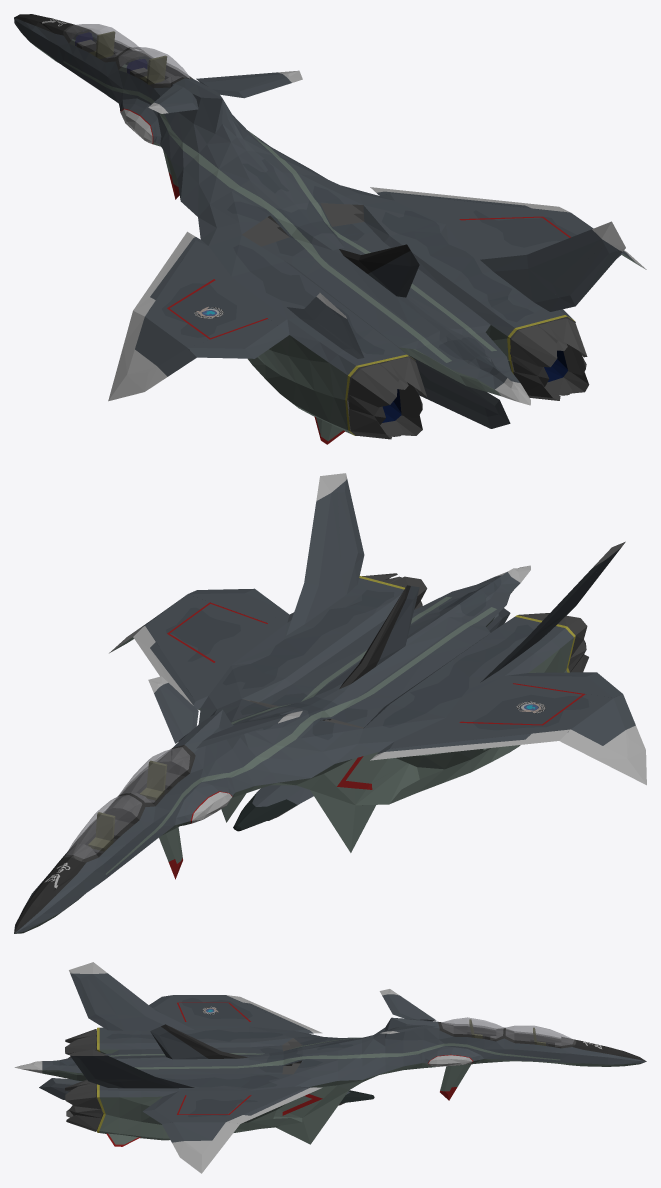
Rendered from FRR31NG.obj.
3 renders of one model, top to bottom at view 1: azimuth 30°, elevation 25°; view 2: azimuth 150°, elevation 25°; view 3: azimuth 270°, elevation 25°, orthographic. The views are drawn at different scales.
Parts seen in each view (by area): view 1: ShapeIndexedFaceSet_ShapeIndexedFaceSet.001, ShapeIndexedFaceSet.001_ShapeIndexedFaceSet.002, ShapeIndexedFaceSet.003_ShapeIndexedFaceSet.004, ShapeIndexedFaceSet.028_ShapeIndexedFaceSet.029, ShapeIndexedFaceSet.005_ShapeIndexedFaceSet.006, ShapeIndexedFaceSet.024_ShapeIndexedFaceSet.025, ShapeIndexedFaceSet.084_ShapeIndexedFaceSet.085, ShapeIndexedFaceSet.031_ShapeIndexedFaceSet.032, ShapeIndexedFaceSet.068_ShapeIndexedFaceSet.069, ShapeIndexedFaceSet.097_ShapeIndexedFaceSet.098, ShapeIndexedFaceSet.002_ShapeIndexedFaceSet.003, ShapeIndexedFaceSet.039_ShapeIndexedFaceSet.040 (+20 smaller); view 2: ShapeIndexedFaceSet_ShapeIndexedFaceSet.001, ShapeIndexedFaceSet.003_ShapeIndexedFaceSet.004, ShapeIndexedFaceSet.001_ShapeIndexedFaceSet.002, ShapeIndexedFaceSet.028_ShapeIndexedFaceSet.029, ShapeIndexedFaceSet.005_ShapeIndexedFaceSet.006, ShapeIndexedFaceSet.002_ShapeIndexedFaceSet.003, ShapeIndexedFaceSet.058_ShapeIndexedFaceSet.059, ShapeIndexedFaceSet.066_ShapeIndexedFaceSet.067, ShapeIndexedFaceSet.068_ShapeIndexedFaceSet.069, ShapeIndexedFaceSet.084_ShapeIndexedFaceSet.085, ShapeIndexedFaceSet.026_ShapeIndexedFaceSet.027, ShapeIndexedFaceSet.024_ShapeIndexedFaceSet.025 (+12 smaller); view 3: ShapeIndexedFaceSet_ShapeIndexedFaceSet.001, ShapeIndexedFaceSet.003_ShapeIndexedFaceSet.004, ShapeIndexedFaceSet.001_ShapeIndexedFaceSet.002, ShapeIndexedFaceSet.028_ShapeIndexedFaceSet.029, ShapeIndexedFaceSet.005_ShapeIndexedFaceSet.006, ShapeIndexedFaceSet.002_ShapeIndexedFaceSet.003, ShapeIndexedFaceSet.030_ShapeIndexedFaceSet.031, ShapeIndexedFaceSet.066_ShapeIndexedFaceSet.067, ShapeIndexedFaceSet.068_ShapeIndexedFaceSet.069, ShapeIndexedFaceSet.058_ShapeIndexedFaceSet.059, ShapeIndexedFaceSet.004_ShapeIndexedFaceSet.005, ShapeIndexedFaceSet.084_ShapeIndexedFaceSet.085 (+14 smaller).
Boxes of the visible parts, x1,y1,x2,y2 form: ShapeIndexedFaceSet_ShapeIndexedFaceSet.001: (14, 17, 634, 389); ShapeIndexedFaceSet.001_ShapeIndexedFaceSet.002: (162, 159, 576, 375); ShapeIndexedFaceSet.003_ShapeIndexedFaceSet.004: (30, 39, 642, 441); ShapeIndexedFaceSet.028_ShapeIndexedFaceSet.029: (287, 229, 622, 358); ShapeIndexedFaceSet.005_ShapeIndexedFaceSet.006: (108, 109, 646, 405); ShapeIndexedFaceSet.024_ShapeIndexedFaceSet.025: (188, 319, 287, 358); ShapeIndexedFaceSet.084_ShapeIndexedFaceSet.085: (261, 223, 410, 275); ShapeIndexedFaceSet.031_ShapeIndexedFaceSet.032: (547, 243, 620, 306); ShapeIndexedFaceSet.068_ShapeIndexedFaceSet.069: (118, 47, 189, 83); ShapeIndexedFaceSet.097_ShapeIndexedFaceSet.098: (242, 203, 364, 246); ShapeIndexedFaceSet.002_ShapeIndexedFaceSet.003: (14, 14, 410, 318); ShapeIndexedFaceSet.039_ShapeIndexedFaceSet.040: (348, 363, 397, 407); ShapeIndexedFaceSet_ShapeIndexedFaceSet.001: (14, 484, 635, 933); ShapeIndexedFaceSet.003_ShapeIndexedFaceSet.004: (14, 590, 573, 933); ShapeIndexedFaceSet.001_ShapeIndexedFaceSet.002: (133, 577, 589, 739); ShapeIndexedFaceSet.028_ShapeIndexedFaceSet.029: (286, 479, 621, 682); ShapeIndexedFaceSet.005_ShapeIndexedFaceSet.006: (109, 565, 646, 823); ShapeIndexedFaceSet.002_ShapeIndexedFaceSet.003: (14, 585, 545, 933); ShapeIndexedFaceSet.058_ShapeIndexedFaceSet.059: (64, 745, 195, 861); ShapeIndexedFaceSet.066_ShapeIndexedFaceSet.067: (66, 795, 141, 858); ShapeIndexedFaceSet.068_ShapeIndexedFaceSet.069: (119, 747, 189, 802); ShapeIndexedFaceSet.084_ShapeIndexedFaceSet.085: (266, 668, 410, 717); ShapeIndexedFaceSet.026_ShapeIndexedFaceSet.027: (188, 588, 286, 622); ShapeIndexedFaceSet.024_ShapeIndexedFaceSet.025: (514, 672, 622, 697); ShapeIndexedFaceSet_ShapeIndexedFaceSet.001: (42, 995, 646, 1142); ShapeIndexedFaceSet.003_ShapeIndexedFaceSet.004: (42, 1037, 644, 1144); ShapeIndexedFaceSet.001_ShapeIndexedFaceSet.002: (52, 997, 353, 1117); ShapeIndexedFaceSet.028_ShapeIndexedFaceSet.029: (70, 973, 194, 1088); ShapeIndexedFaceSet.005_ShapeIndexedFaceSet.006: (14, 1055, 472, 1173); ShapeIndexedFaceSet.002_ShapeIndexedFaceSet.003: (161, 1006, 646, 1061); ShapeIndexedFaceSet.030_ShapeIndexedFaceSet.031: (71, 974, 119, 1019); ShapeIndexedFaceSet.066_ShapeIndexedFaceSet.067: (506, 1025, 573, 1045); ShapeIndexedFaceSet.068_ShapeIndexedFaceSet.069: (441, 1017, 503, 1038); ShapeIndexedFaceSet.058_ShapeIndexedFaceSet.059: (438, 1022, 576, 1047); ShapeIndexedFaceSet.004_ShapeIndexedFaceSet.005: (106, 1002, 473, 1146); ShapeIndexedFaceSet.084_ShapeIndexedFaceSet.085: (233, 1038, 267, 1078).
Bounding box in the file's own units: 134 × 46.62 × 222.
